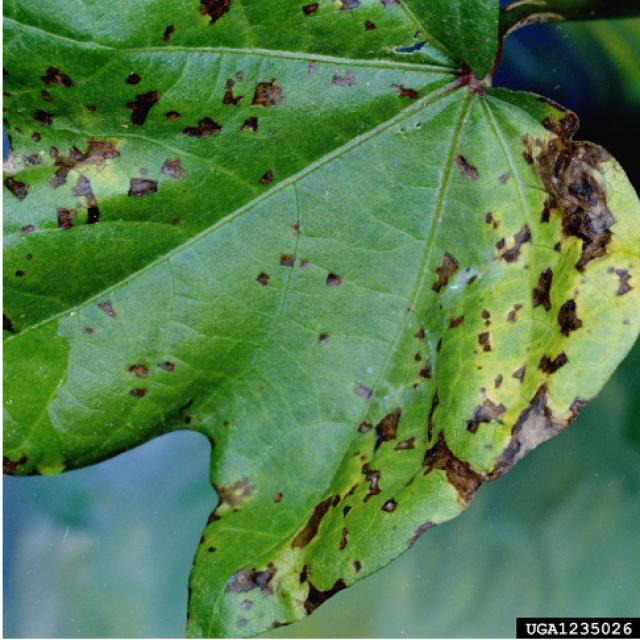Bacterial Blight: (410, 114, 627, 457), (9, 22, 316, 243)
